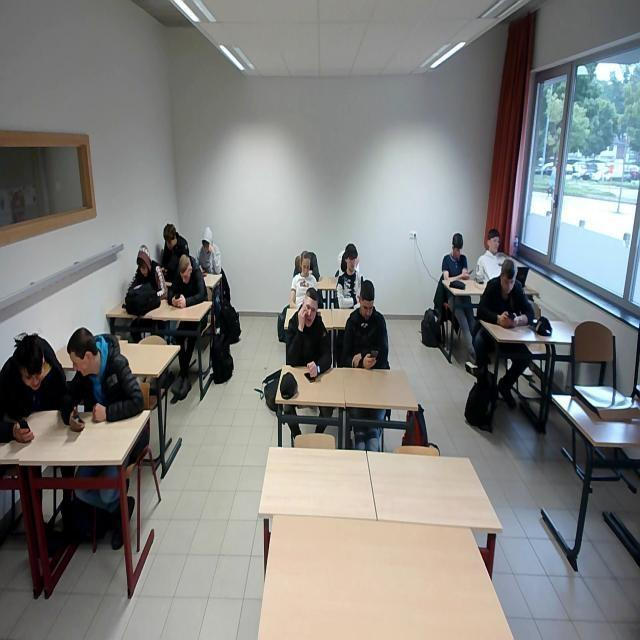phone_use: (60, 326, 142, 430), (0, 333, 64, 441), (341, 279, 387, 367), (476, 258, 532, 326), (168, 254, 205, 306), (160, 223, 187, 281), (441, 232, 468, 281), (197, 226, 219, 272)
